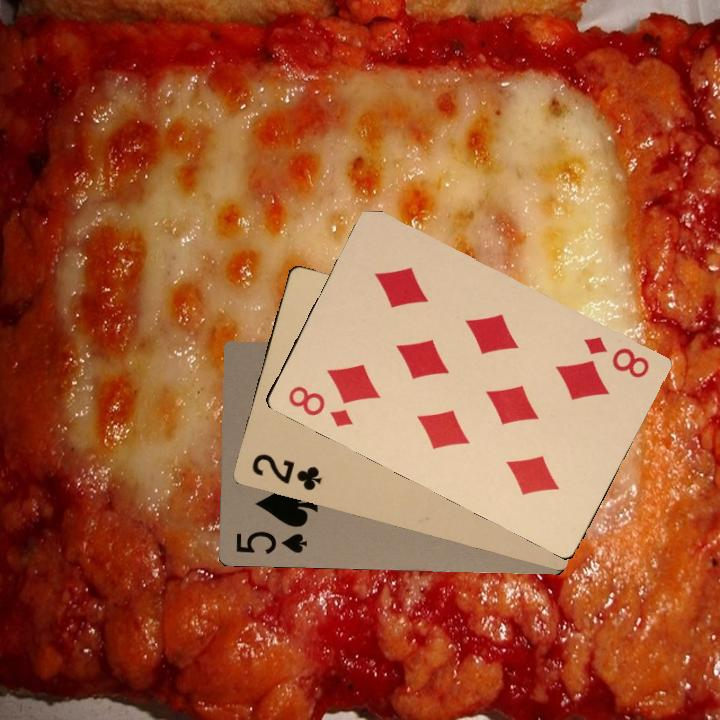2c: (247, 449, 325, 493)
5s: (232, 527, 309, 556)
8d: (284, 381, 356, 430), (580, 332, 652, 381)
